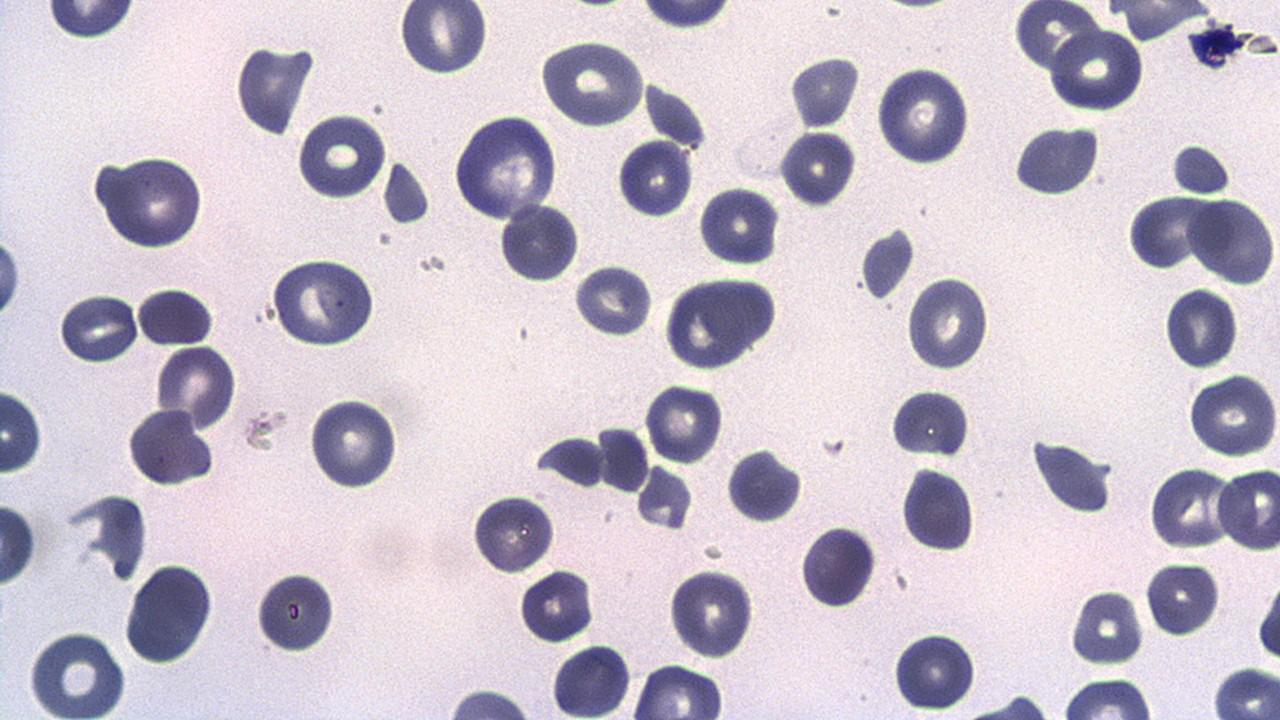Platelets: (306, 394, 406, 494), (231, 42, 313, 138), (467, 491, 559, 574), (1027, 434, 1119, 516), (898, 464, 978, 552), (1161, 286, 1239, 369), (570, 263, 654, 339), (888, 386, 974, 458), (784, 54, 863, 130), (516, 568, 594, 642), (858, 225, 918, 302), (530, 434, 605, 487), (45, 1, 139, 42), (1167, 142, 1233, 194), (378, 162, 432, 224), (0, 232, 23, 321), (882, 0, 949, 10)
RBC: (452, 110, 556, 222), (874, 63, 974, 167), (103, 152, 204, 252), (536, 37, 646, 128), (270, 256, 378, 348), (304, 393, 402, 492), (24, 625, 129, 717), (904, 272, 992, 372), (665, 562, 757, 657), (294, 110, 389, 201), (1046, 25, 1144, 113), (1186, 195, 1278, 287), (1187, 368, 1279, 460), (889, 626, 979, 712), (253, 564, 338, 655), (156, 342, 239, 435), (125, 406, 217, 488), (470, 490, 557, 576), (1149, 463, 1233, 550), (898, 462, 978, 552), (698, 181, 780, 268), (798, 522, 879, 610), (398, 0, 488, 76), (642, 380, 722, 465), (1125, 190, 1207, 272), (1164, 282, 1240, 370), (1069, 585, 1145, 670), (58, 288, 139, 367), (573, 259, 653, 338), (617, 136, 692, 220), (518, 566, 596, 646), (1143, 558, 1221, 638), (778, 128, 855, 209), (548, 642, 632, 716), (887, 386, 971, 458), (1215, 462, 1279, 554), (786, 51, 860, 130), (628, 660, 728, 717), (134, 285, 216, 347), (1055, 674, 1159, 718), (0, 387, 46, 476), (634, 465, 694, 531), (1209, 662, 1279, 716), (596, 427, 650, 496), (380, 159, 432, 225), (1, 497, 37, 590), (444, 683, 538, 718), (639, 0, 735, 31), (1255, 572, 1280, 662)
WBC: (306, 0, 1280, 720), (661, 271, 781, 372), (452, 110, 560, 222), (875, 64, 979, 170), (120, 558, 218, 668), (270, 255, 380, 351), (538, 35, 648, 130), (1050, 19, 1144, 111), (1186, 195, 1276, 286), (466, 490, 558, 575), (254, 563, 337, 657), (495, 199, 582, 285), (1010, 120, 1105, 198), (396, 0, 493, 76), (124, 407, 216, 486), (900, 462, 976, 554), (548, 638, 634, 718), (726, 445, 805, 525), (786, 50, 862, 132), (858, 224, 918, 304), (0, 387, 46, 478), (38, 2, 144, 41), (534, 434, 605, 490), (632, 1, 736, 32)
